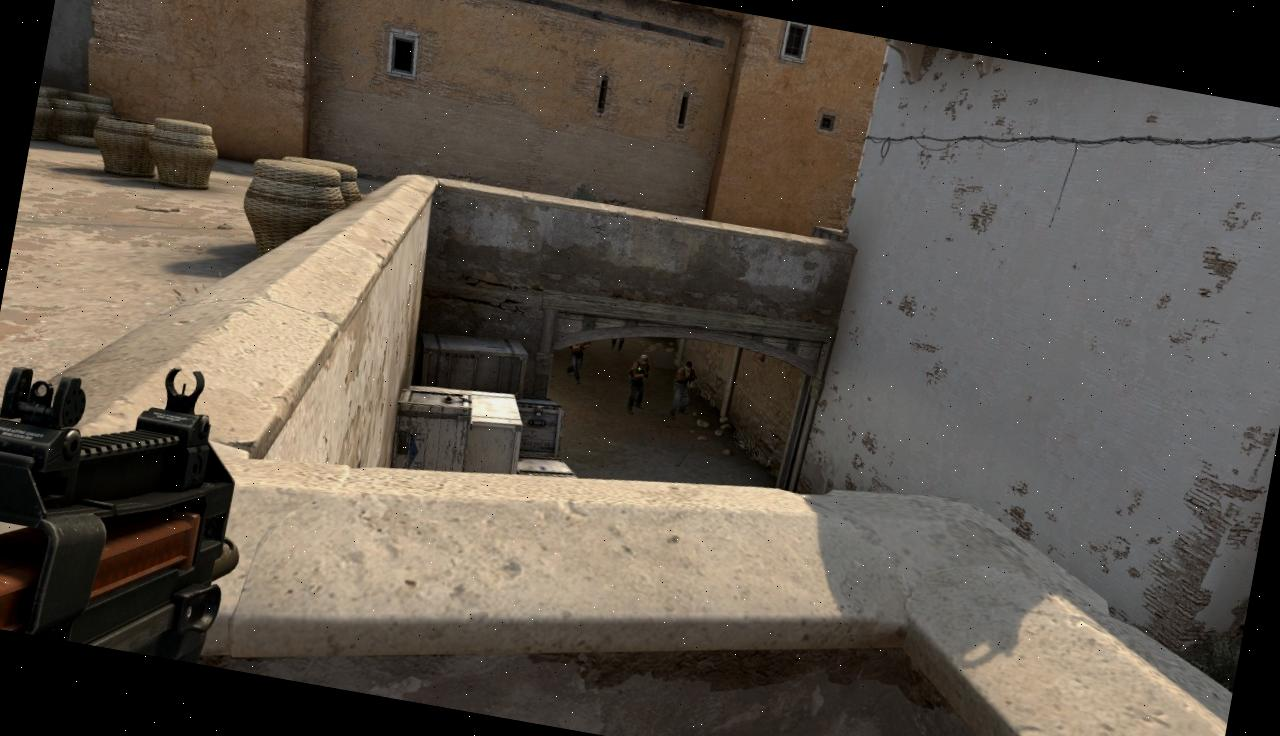rifle: (0, 333, 251, 663)
tt: (669, 359, 697, 420), (624, 353, 651, 416), (566, 341, 589, 384)
tthead: (640, 354, 648, 364), (685, 360, 692, 370)
